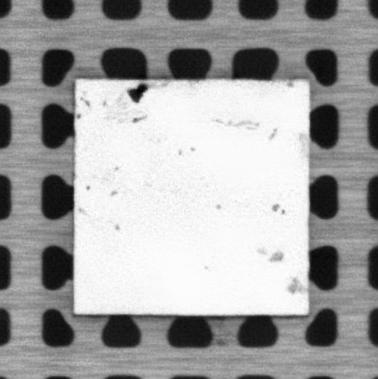DIE_INK: (211, 116, 259, 131), (257, 244, 285, 263), (126, 82, 150, 103), (285, 276, 307, 297), (297, 131, 308, 156), (269, 202, 287, 215), (79, 90, 91, 106), (133, 113, 148, 125), (268, 126, 277, 141), (108, 188, 119, 198), (213, 201, 225, 210), (188, 144, 197, 153), (176, 146, 184, 156), (75, 110, 81, 121), (284, 80, 295, 86), (112, 163, 120, 171), (112, 222, 120, 230), (85, 183, 90, 191)
